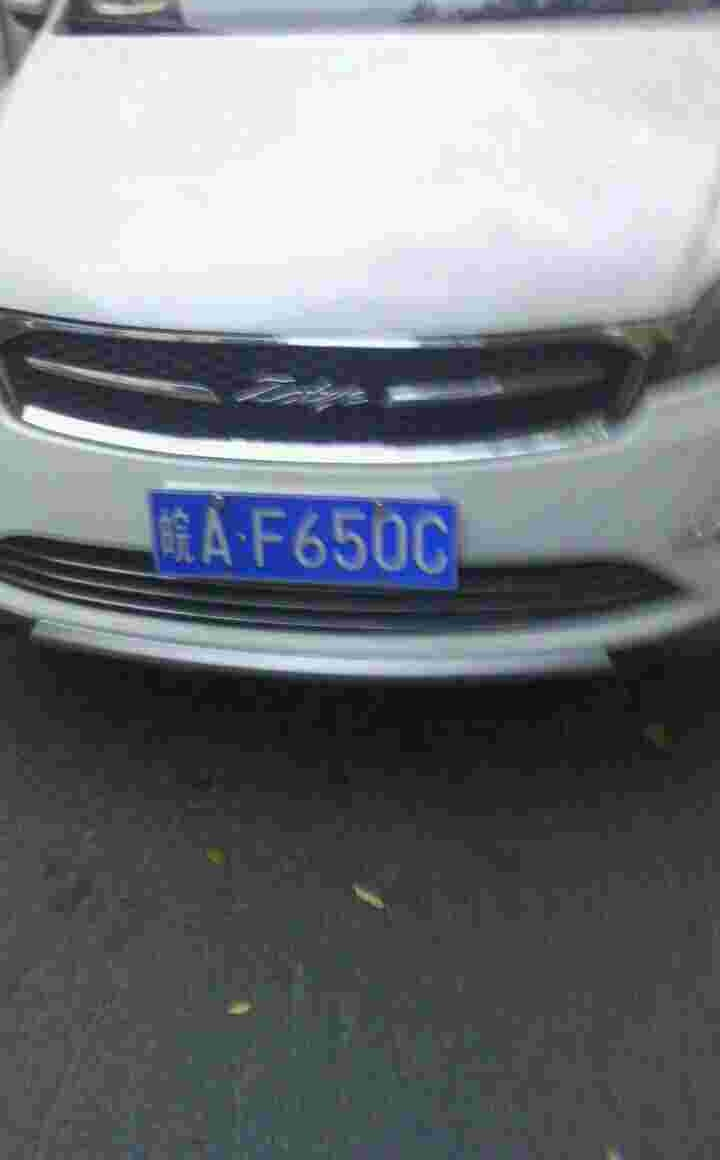license_plate: (158, 486, 478, 591)
